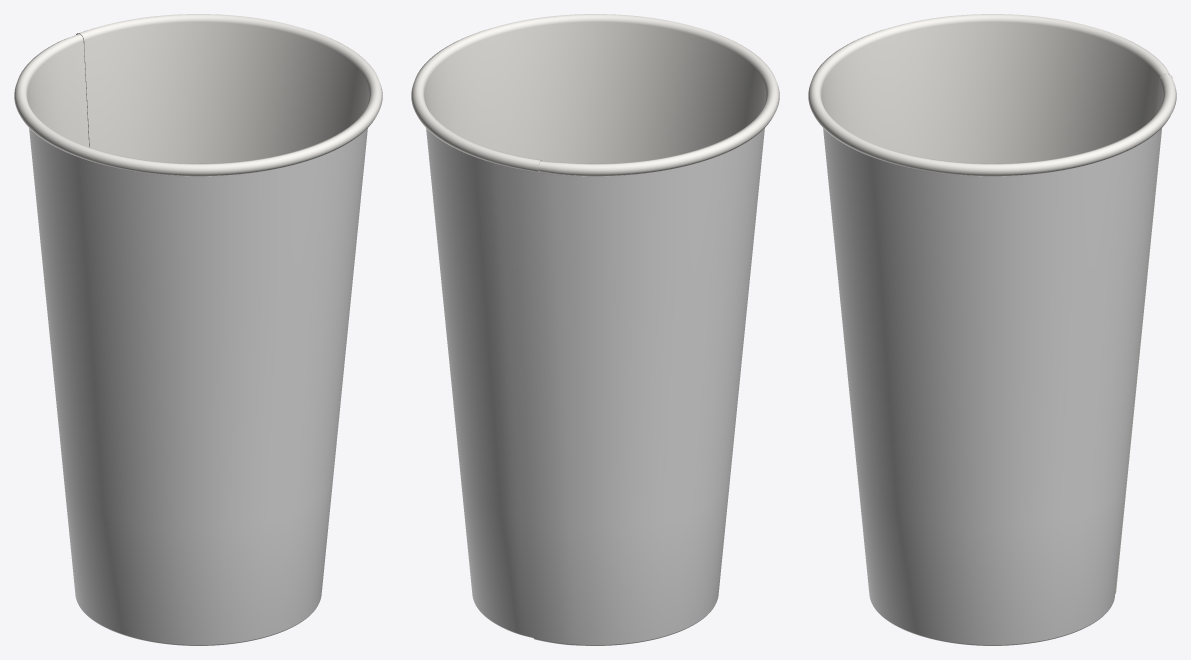
The picture shows the model from 3 angles, left to right: view 1: azimuth 30°, elevation 25°; view 2: azimuth 150°, elevation 25°; view 3: azimuth 270°, elevation 25°; orthographic projection.
Parts seen in each view (by area): view 1: Cup_Wall; view 2: Cup_Wall; view 3: Cup_Wall.
Boxes of the visible parts, box(x1,y1,x2,y2) form: Cup_Wall: box(14, 14, 382, 645); Cup_Wall: box(411, 14, 779, 645); Cup_Wall: box(808, 14, 1176, 645).
Size of the model in its own units: 0.0897 by 0.1358 by 0.0897.
3 materials, 1 textured.
